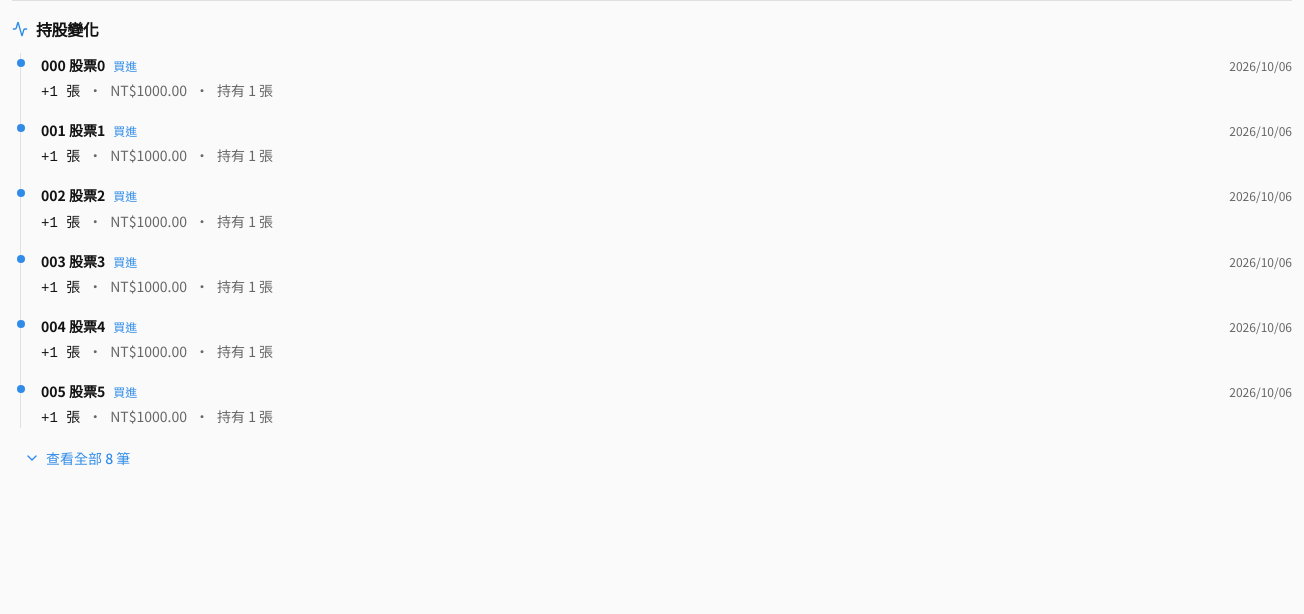
Test case: PositionTimelineView › 預設六筆並可展開
The image size is (1304, 614).
expect the number of list items is 6: met, box [21,53,1292,118]; [21,118,1292,183]; [21,183,1292,249]; [21,249,1292,314]; [21,314,1292,379]; [21,379,1292,428]
Click the button "查看全部 8 筆".
click(77, 458)  # box [12,440,142,476]
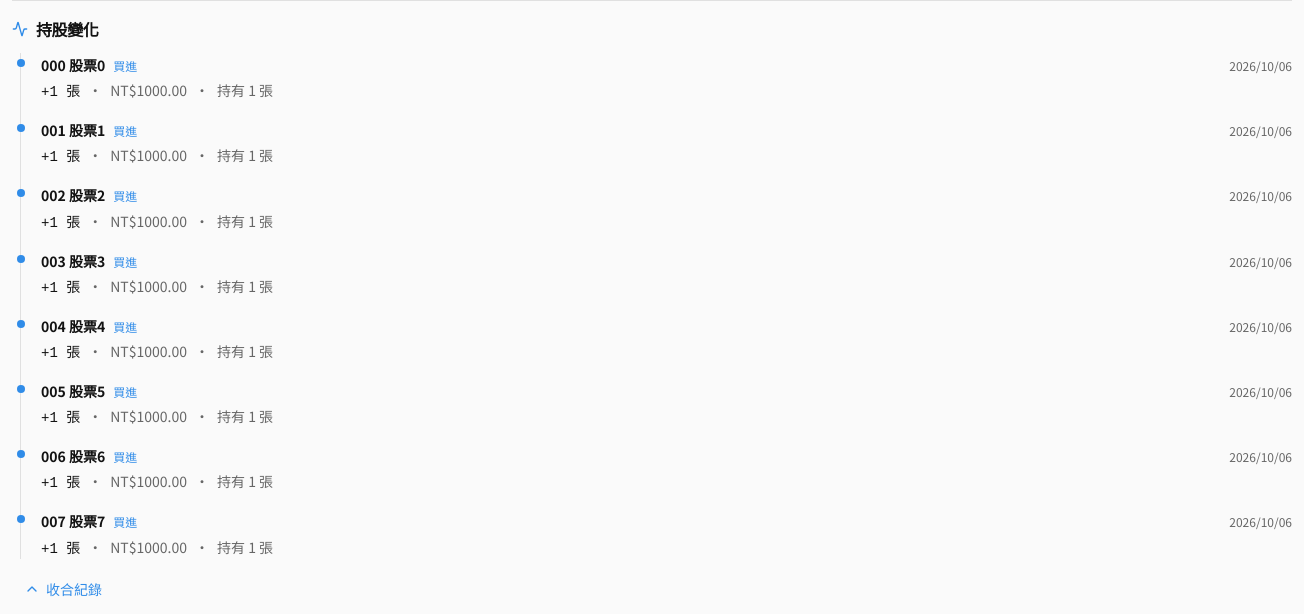
expect the number of list items is 8: met
